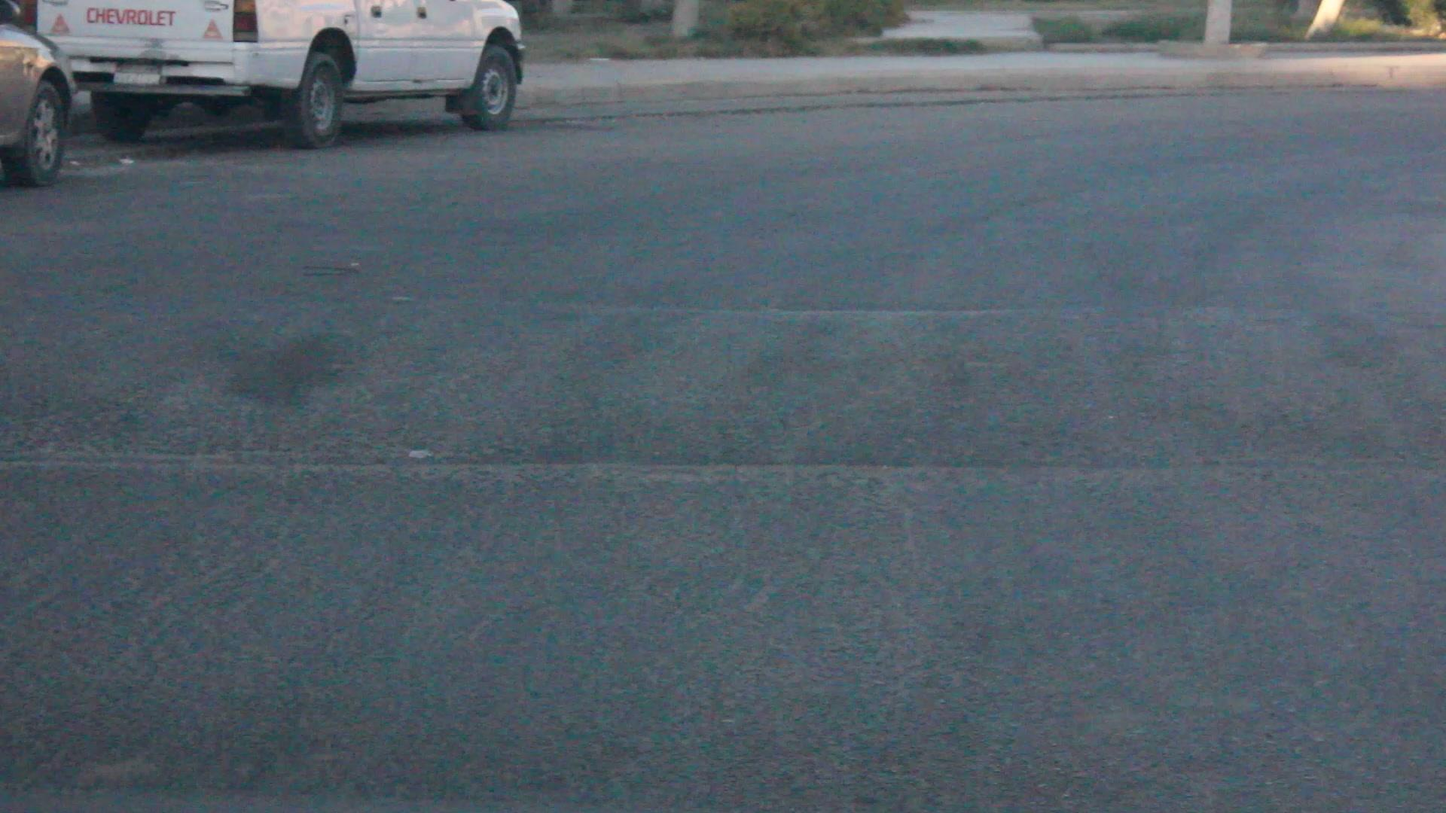Bump: (21, 297, 1422, 512)
